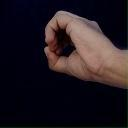hand: (43, 9, 127, 90)
